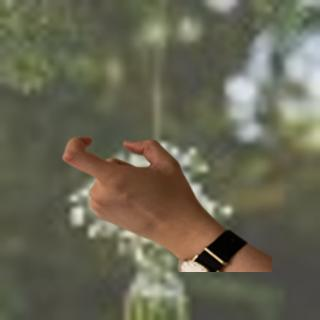HATE: (57, 128, 202, 248)
